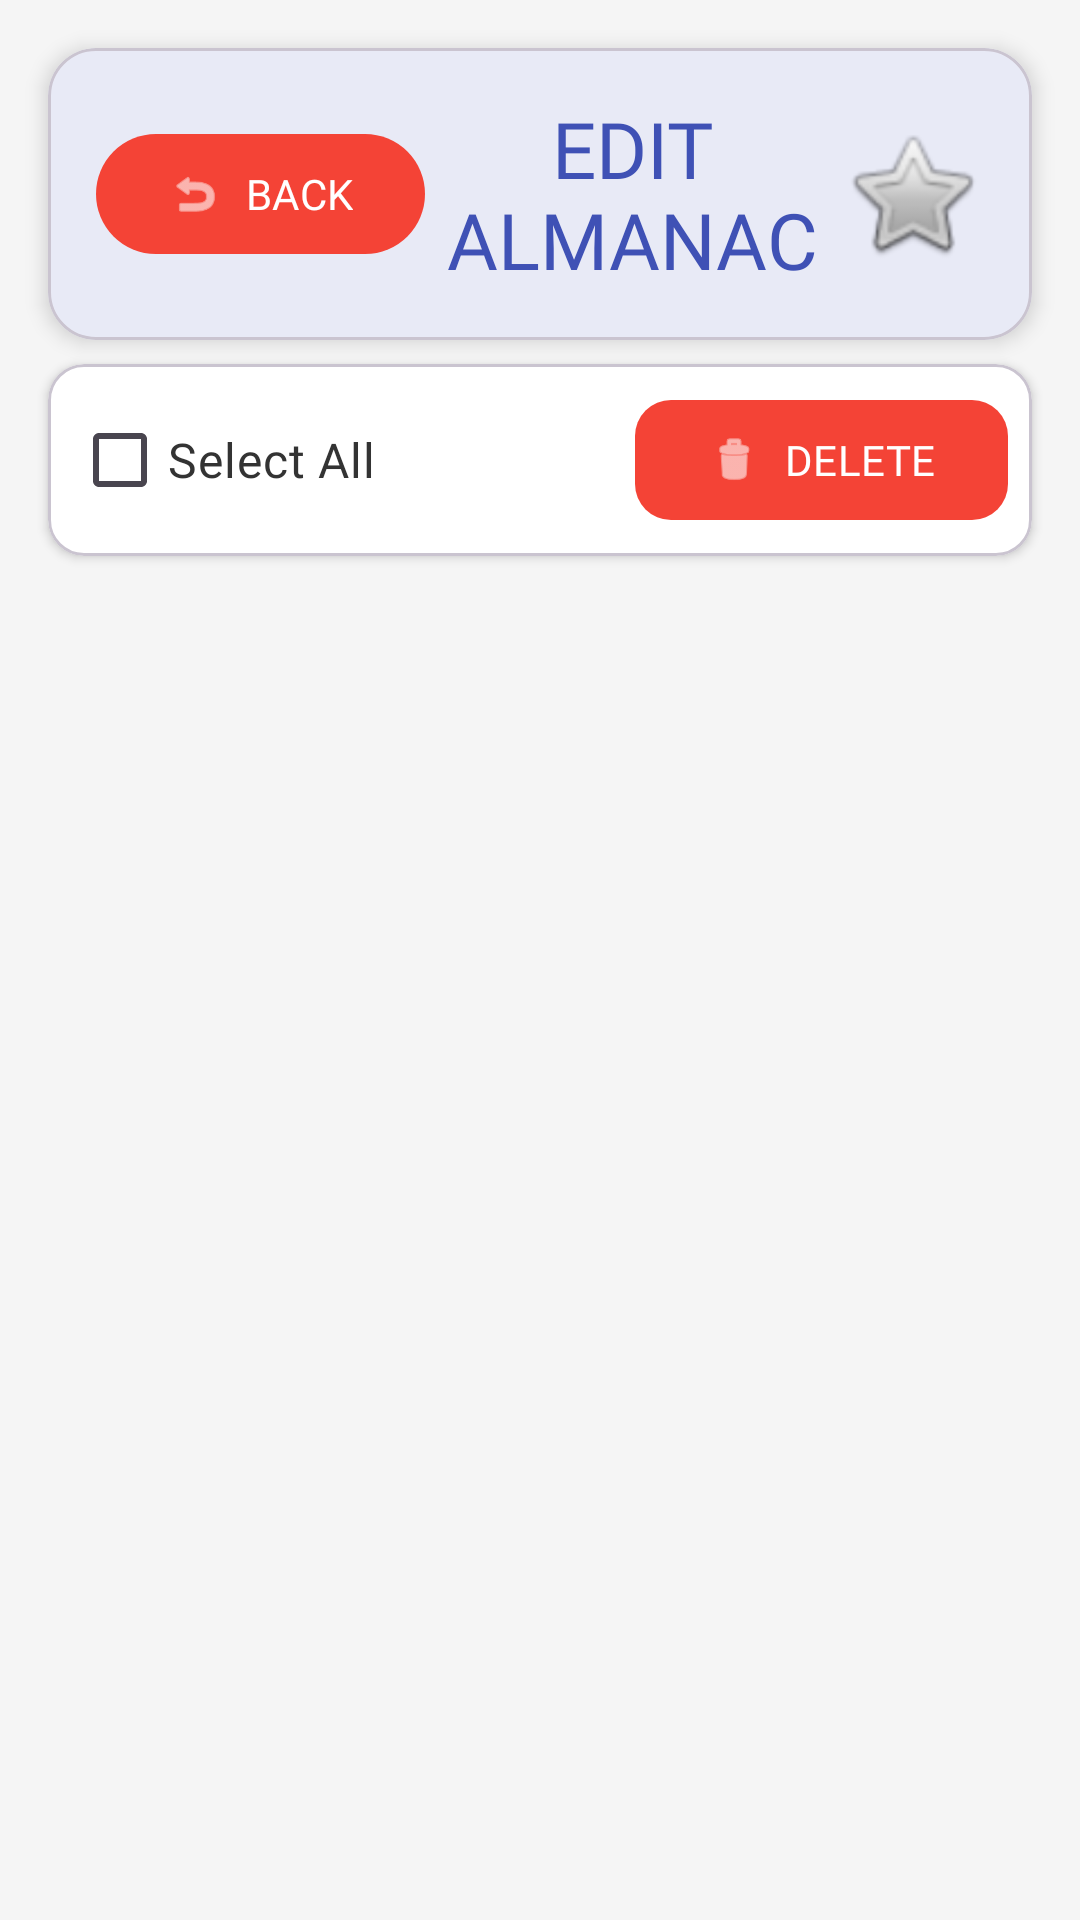

Screen size 1080w x 1920h. Icon name, then its center in pixels as (x,y):
star off: (913,195)
